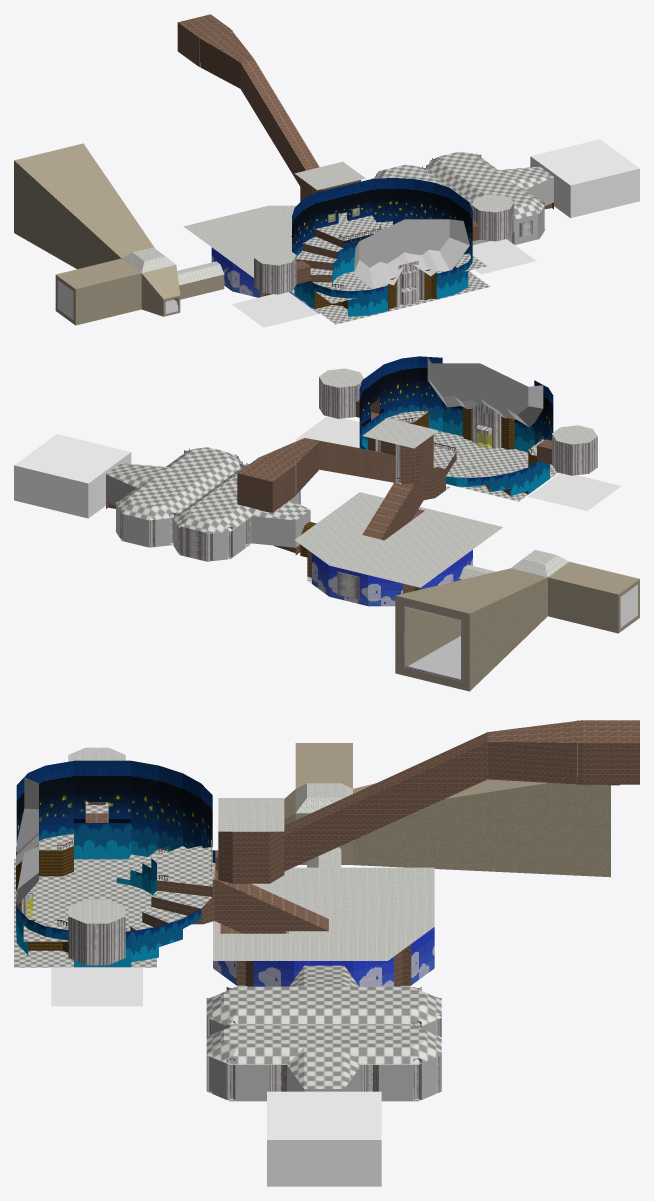
File: castle_2f_all.bmd 1.dae
The picture shows the model from 3 angles, top to bottom: view 1: azimuth 30°, elevation 25°; view 2: azimuth 150°, elevation 25°; view 3: azimuth 270°, elevation 25°; orthographic projection. The views are drawn at different scales.
Parts seen in each view (by area): view 1: r4, r2, r5, r3, r6, r1; view 2: r4, r2, r1, r3, r5, r6; view 3: r4, r3, r5, r1, r2, r6.
Part boxes in pixels (x1,y1,x2,y2): r4: (232, 177, 535, 327); r2: (14, 143, 224, 325); r5: (177, 14, 365, 222); r3: (372, 151, 553, 245); r6: (530, 139, 639, 218); r1: (183, 205, 301, 300); r4: (295, 356, 621, 511); r2: (395, 550, 639, 691); r1: (295, 466, 502, 606); r3: (106, 447, 310, 561); r5: (237, 418, 438, 512); r6: (14, 434, 131, 518); r4: (14, 747, 215, 1006); r3: (206, 965, 441, 1101); r5: (215, 720, 639, 883); r1: (192, 867, 434, 986); r2: (284, 743, 610, 877); r6: (267, 1091, 381, 1186).
Size of the model in its own units: 15.96 by 10.92 by 5.22.
